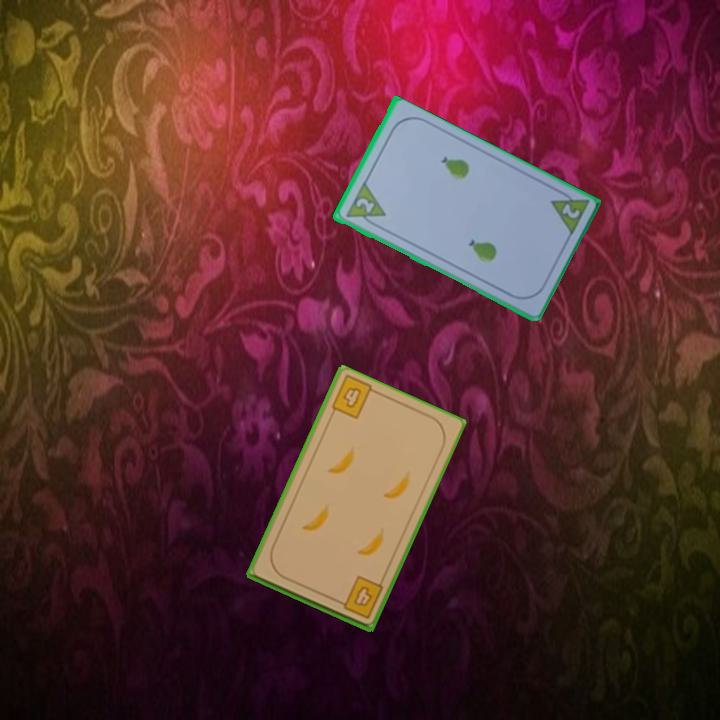2p: (341, 180, 388, 231), (557, 200, 583, 222)
4b: (332, 573, 386, 621), (339, 383, 364, 411)
